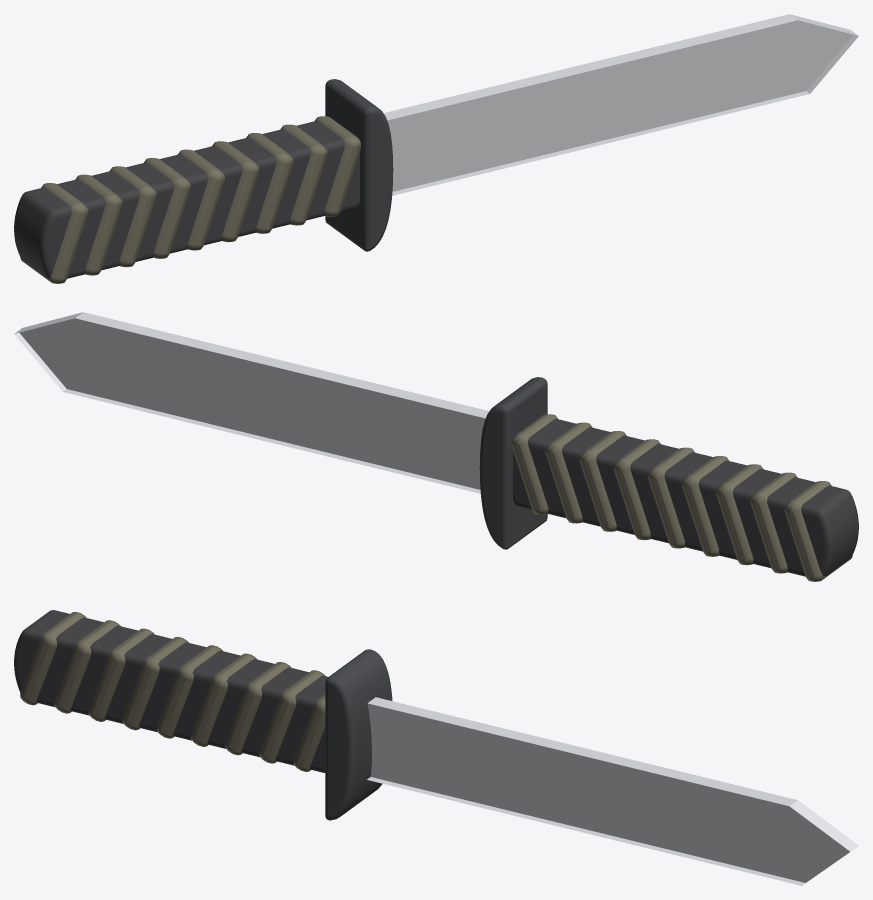
Rendered from knife_tanto.glb.
The picture shows the model from 3 angles, top to bottom: view 1: azimuth 30°, elevation 25°; view 2: azimuth 150°, elevation 25°; view 3: azimuth 330°, elevation 25°; orthographic projection.
Visible parts, largest first — view 1: blade, handle, tsuba, wrap0, wrap7, wrap1, wrap2, wrap3, wrap4, wrap5, wrap6, wrap8; view 2: blade, handle, tsuba, wrap0, wrap7, wrap1, wrap2, wrap3, wrap4, wrap5, wrap6, wrap8; view 3: blade, handle, tsuba, wrap1, wrap2, wrap3, wrap7, wrap5, wrap6, wrap0, wrap4, wrap8.
Boxes of the visible parts, bbox=[...] form: blade: bbox=[383, 14, 858, 195]; handle: bbox=[14, 121, 359, 278]; tsuba: bbox=[325, 79, 393, 251]; wrap0: bbox=[20, 183, 88, 283]; wrap7: bbox=[280, 124, 327, 225]; wrap1: bbox=[75, 174, 122, 275]; wrap2: bbox=[109, 166, 156, 267]; wrap3: bbox=[144, 158, 190, 258]; wrap4: bbox=[178, 149, 224, 250]; wrap5: bbox=[212, 141, 258, 242]; wrap6: bbox=[246, 133, 293, 233]; wrap8: bbox=[314, 116, 360, 217]; blade: bbox=[14, 312, 489, 493]; handle: bbox=[513, 419, 858, 576]; tsuba: bbox=[479, 377, 547, 549]; wrap0: bbox=[784, 481, 852, 581]; wrap7: bbox=[545, 422, 592, 523]; wrap1: bbox=[750, 472, 797, 573]; wrap2: bbox=[716, 464, 763, 565]; wrap3: bbox=[682, 456, 728, 556]; wrap4: bbox=[648, 447, 694, 548]; wrap5: bbox=[614, 439, 660, 540]; wrap6: bbox=[579, 431, 626, 531]; wrap8: bbox=[512, 414, 558, 515]; blade: bbox=[367, 697, 858, 885]; handle: bbox=[14, 610, 327, 772]; tsuba: bbox=[325, 649, 392, 820]; wrap1: bbox=[54, 620, 120, 713]; wrap2: bbox=[88, 628, 154, 721]; wrap3: bbox=[122, 637, 188, 730]; wrap7: bbox=[259, 670, 325, 763]; wrap5: bbox=[191, 653, 257, 746]; wrap6: bbox=[225, 662, 291, 755]; wrap0: bbox=[20, 612, 86, 705]; wrap4: bbox=[157, 645, 222, 738]; wrap8: bbox=[293, 694, 325, 771].
Bounding box in the file's own units: 0.339 × 0.0562 × 0.03.
